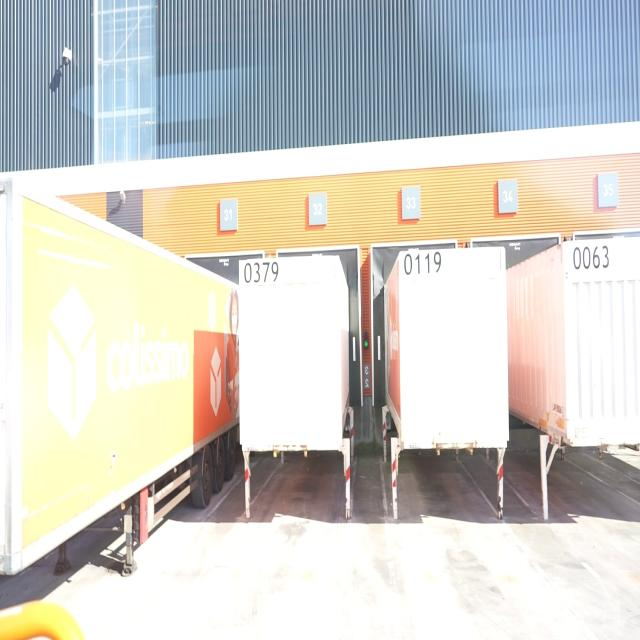Code: (567, 239, 614, 273), (401, 250, 446, 276), (242, 258, 280, 286)
